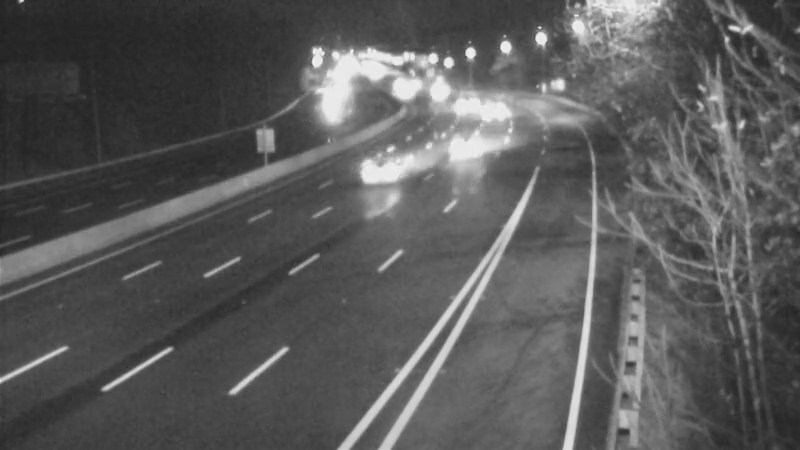vehicle: (346, 124, 426, 204), (421, 65, 471, 115), (381, 68, 431, 118), (438, 76, 488, 126), (464, 87, 514, 137), (439, 123, 489, 173)
